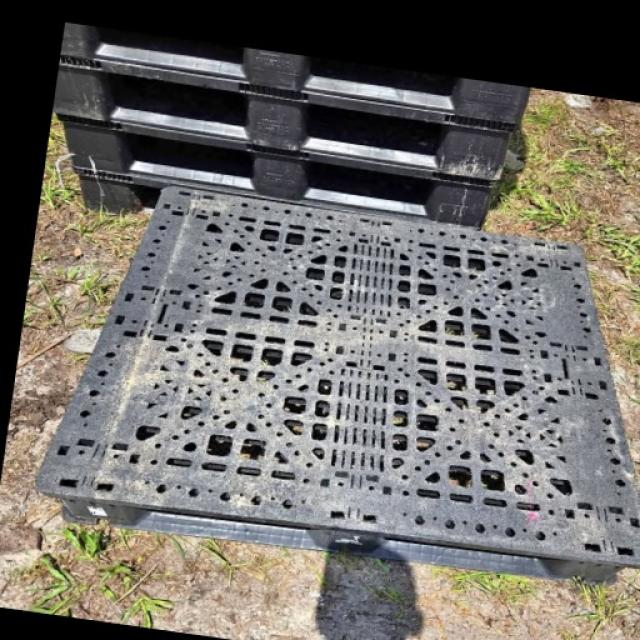non-igps: (29, 181, 638, 591), (47, 0, 537, 152), (43, 44, 519, 197), (50, 110, 501, 240), (60, 158, 182, 225)
